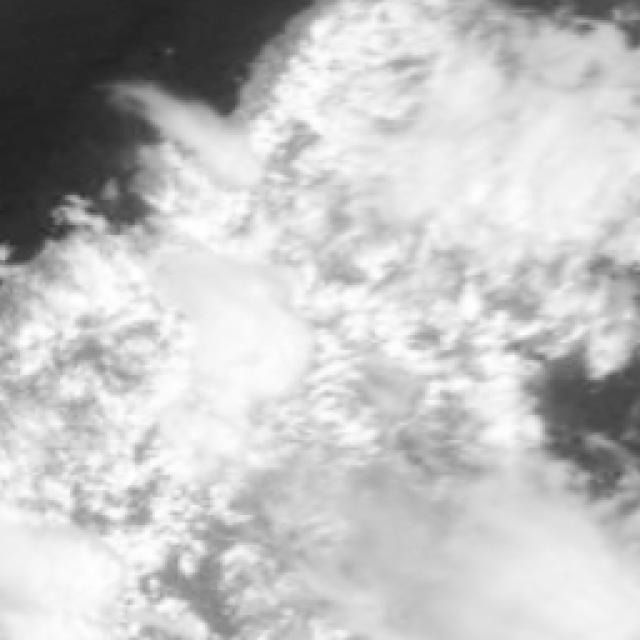CB: (328, 35, 627, 244), (369, 511, 640, 640), (143, 235, 324, 415), (0, 497, 137, 639)
